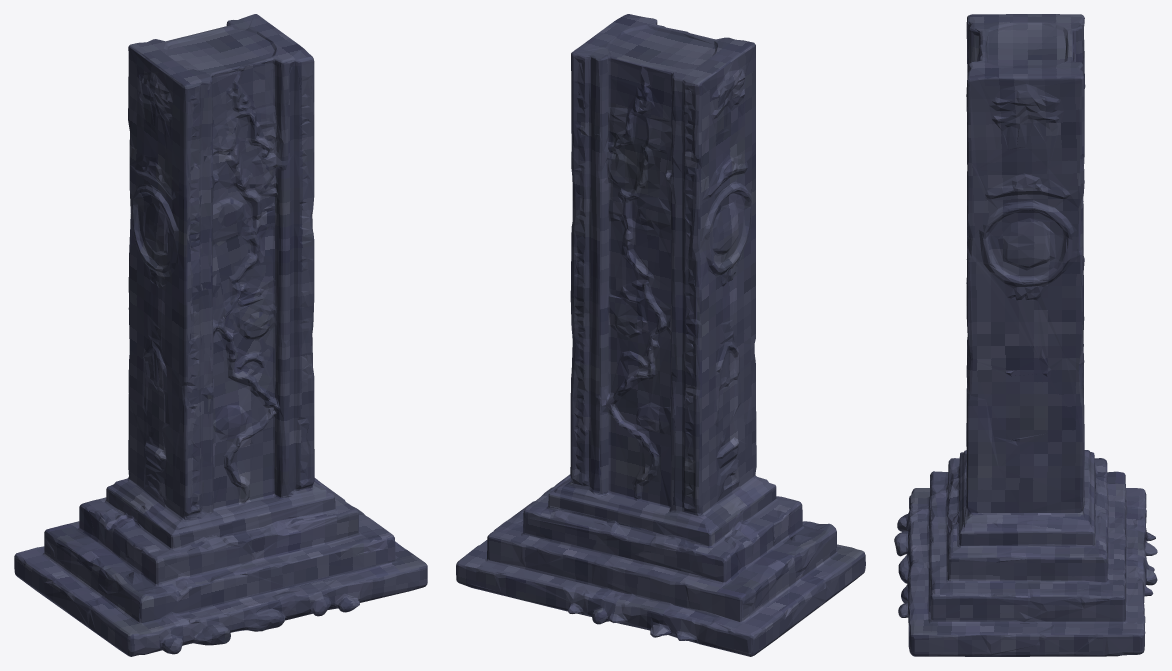
File: weathered-monolith-pillar-generated-2026-04-19T23-27-04-251Z.low.glb
3 views of the same model, side by side, from view 1: azimuth 30°, elevation 25°; view 2: azimuth 150°, elevation 25°; view 3: azimuth 270°, elevation 25° (orthographic).
Visible parts, largest first — view 1: temp_mesh.ply; view 2: temp_mesh.ply; view 3: temp_mesh.ply.
Boxes of the visible parts, box(x1,y1,x2,y2) form: temp_mesh.ply: box(14, 14, 427, 656); temp_mesh.ply: box(456, 14, 865, 656); temp_mesh.ply: box(894, 14, 1157, 656).
Bounding box in the file's own units: 1.16 × 1.97 × 0.8741.
1 material, 1 textured.
